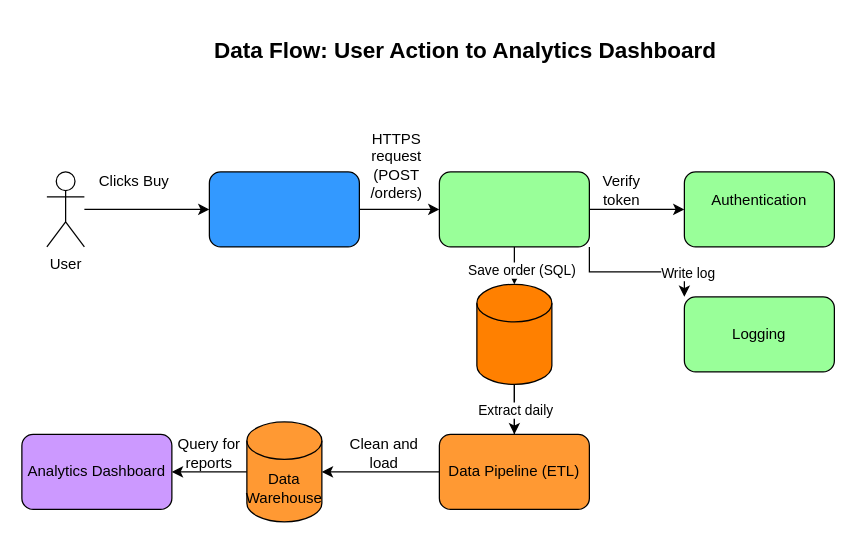
Some shapes in this 856 by 544 pixel diagram are drawn without their labels. Here are the shapes that lost their labels. From the top down, the centre of each, then its label:
(283,209): Frontend (Web / Mobile App)
(513,209): Backend API
(514,333): Database
